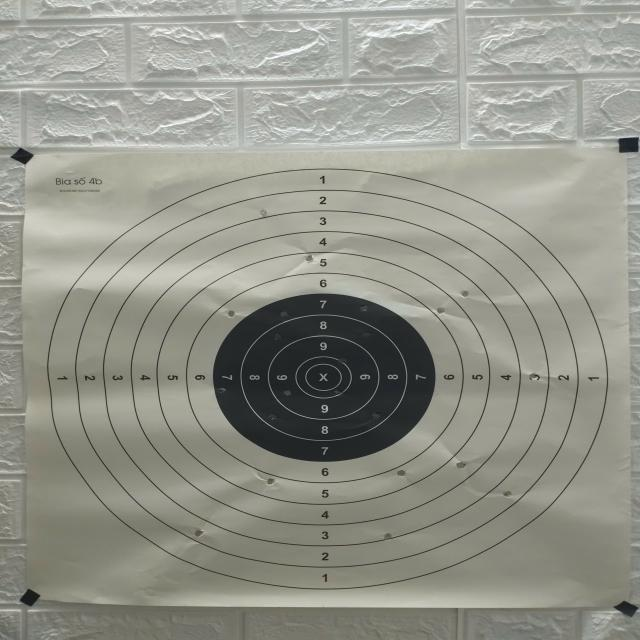bullet: (529, 373, 540, 381), (268, 412, 278, 420), (194, 529, 204, 537), (456, 462, 467, 469), (227, 310, 235, 318), (360, 304, 368, 312), (267, 478, 275, 486), (460, 290, 469, 297), (361, 331, 370, 338), (383, 533, 392, 540), (280, 311, 289, 317), (397, 470, 406, 476), (503, 491, 512, 497), (260, 209, 267, 216), (306, 255, 313, 262), (437, 307, 444, 314), (274, 333, 281, 340), (283, 390, 291, 396), (372, 413, 380, 419), (217, 388, 226, 393), (339, 358, 346, 363), (334, 390, 341, 395)
target: (23, 148, 629, 607)
